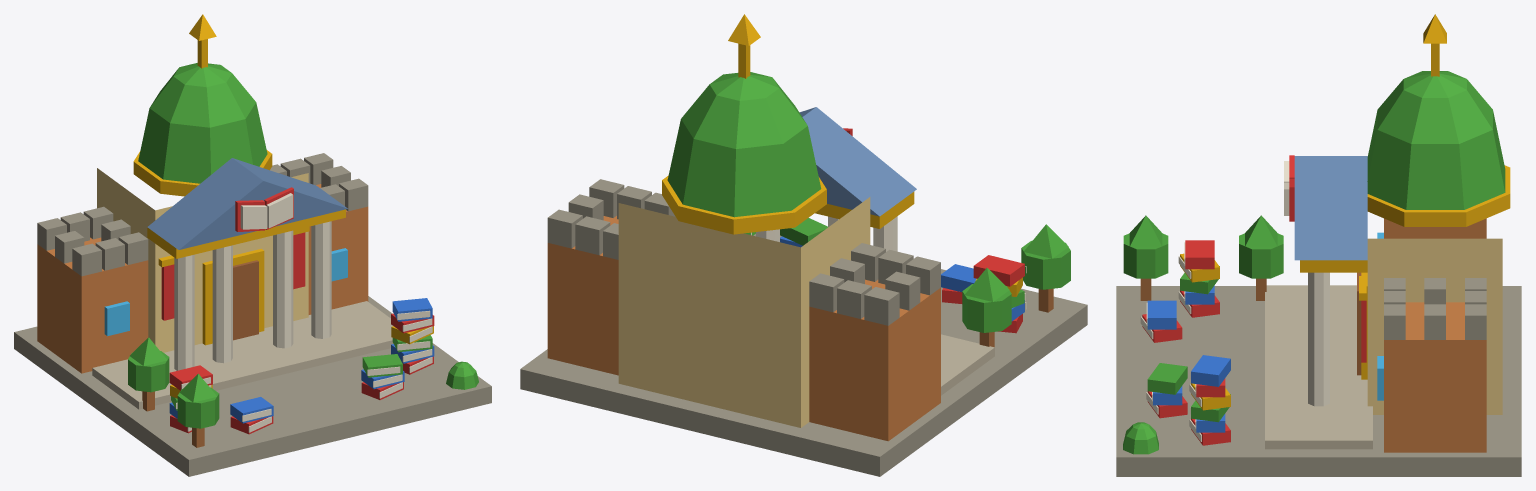
The model's file is library_t3_v2.glb.
3 renders of one model, left to right at view 1: azimuth 30°, elevation 25°; view 2: azimuth 150°, elevation 25°; view 3: azimuth 270°, elevation 25°, orthographic. The views are drawn at different scales.
Parts seen in each view (by area): view 1: library_t3_v2; view 2: library_t3_v2; view 3: library_t3_v2.
Boxes of the visible parts, x1,y1,x2,y2 form: library_t3_v2: (14, 14, 491, 476); library_t3_v2: (520, 14, 1087, 476); library_t3_v2: (1116, 14, 1521, 476).
Bounding box in the file's own units: 0.75 × 0.77 × 0.75.
1 material, 1 textured.
